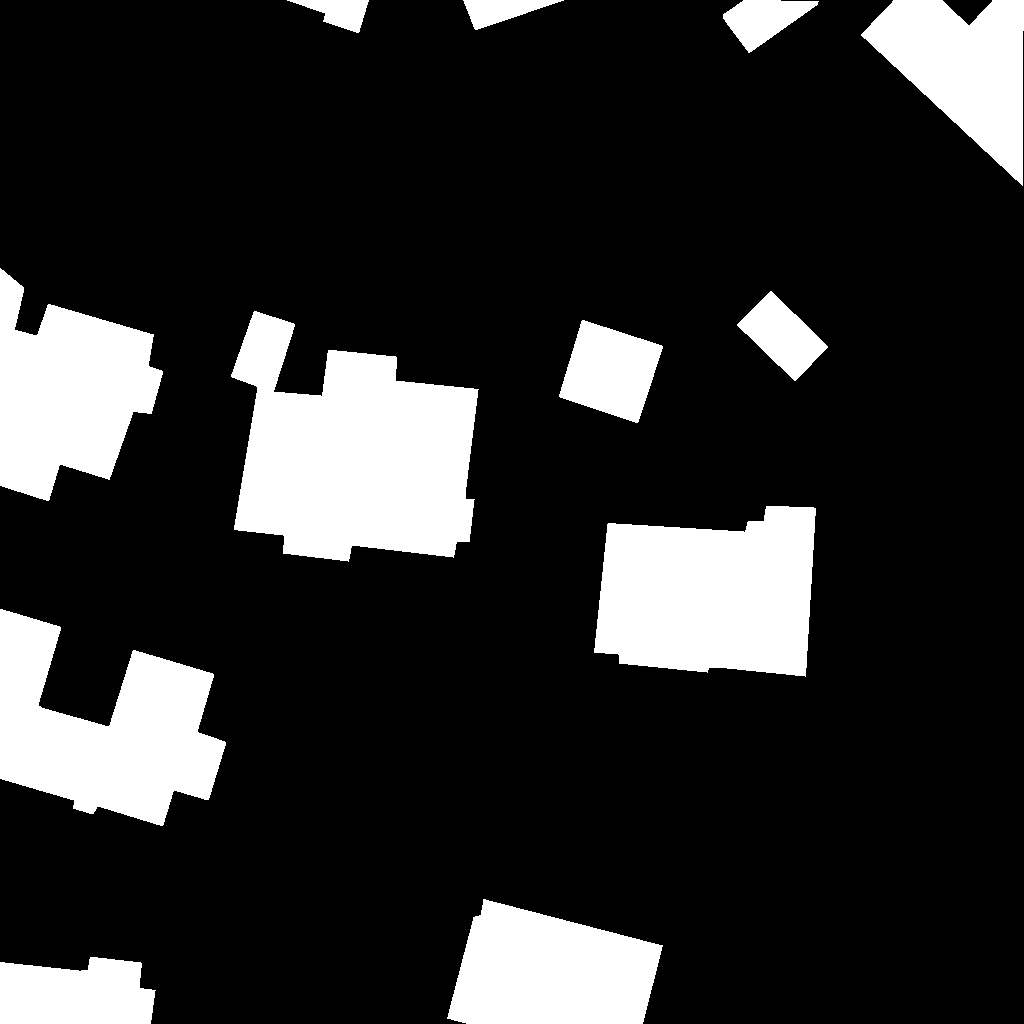building: (231, 311, 479, 562), (0, 609, 227, 827), (0, 268, 164, 502), (594, 506, 817, 677), (861, 0, 1024, 187), (447, 899, 664, 1024), (559, 320, 664, 424), (0, 957, 156, 1024), (737, 291, 829, 382), (722, 0, 820, 54), (463, 0, 566, 31), (286, 0, 370, 34)
